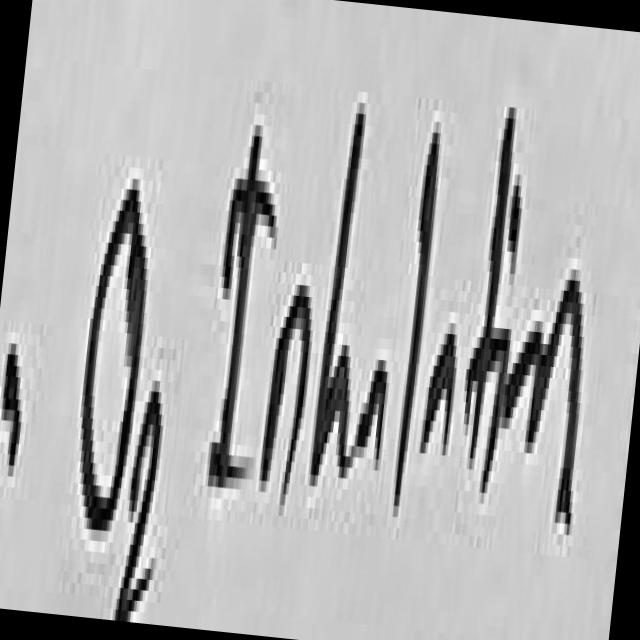2: (115, 391, 162, 616)
I: (209, 125, 277, 486)
O: (81, 189, 147, 529)
a: (422, 333, 457, 455), (358, 360, 388, 470)
h: (311, 113, 365, 486)
i: (482, 340, 511, 487), (510, 185, 523, 274)
l: (394, 133, 441, 517)
n: (525, 280, 584, 535), (262, 285, 312, 499)
o: (504, 331, 533, 423)
t: (467, 107, 517, 469)
